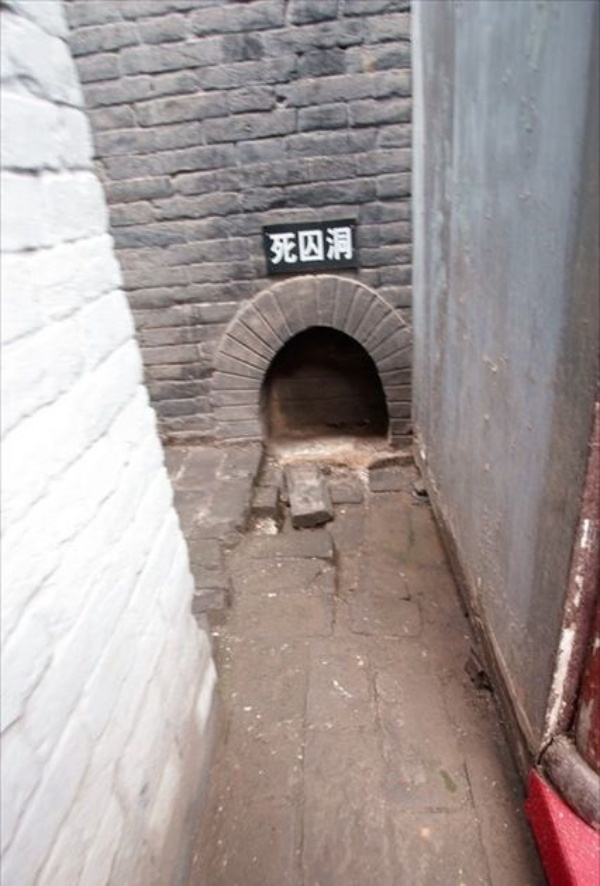text: (273, 226, 288, 268), (289, 226, 304, 268), (305, 226, 320, 268), (321, 226, 336, 268), (337, 226, 352, 268), (268, 226, 272, 268), (353, 226, 357, 268)
